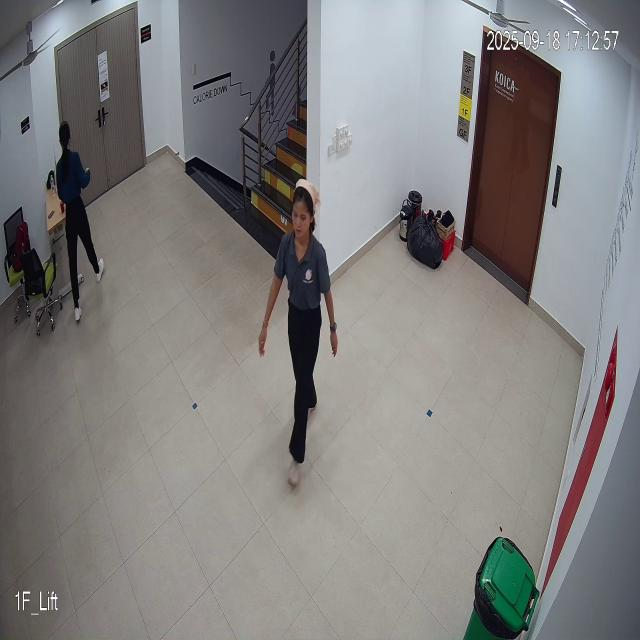face: (287, 175, 320, 243)
